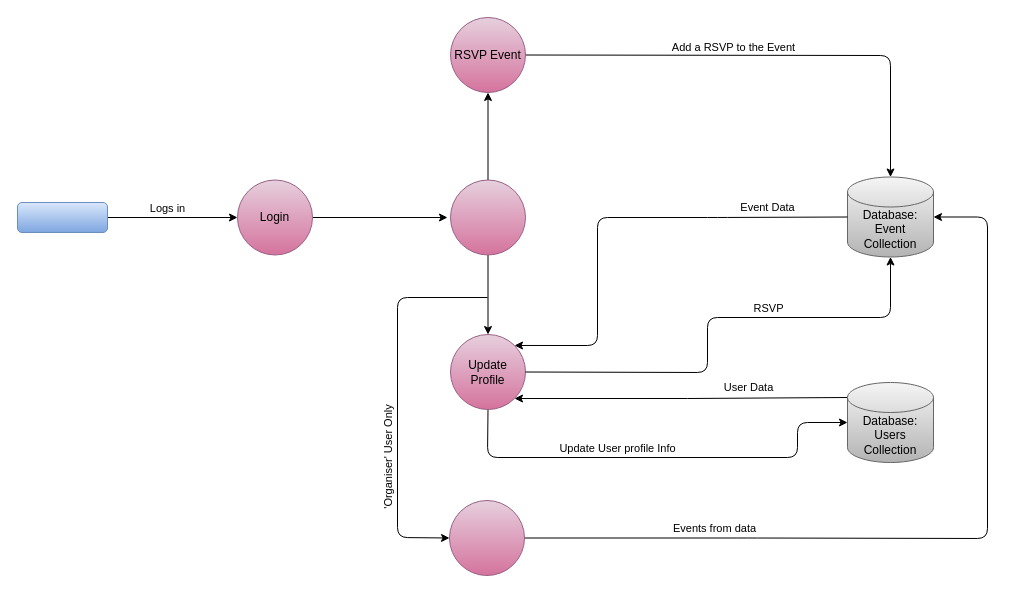
Image size: 1013x593. Some labels were removed from this diagram. Each missing label, with the box of its shape:
Create Event: (448, 500, 524, 576)
Home: (450, 179, 526, 255)
User: (16, 202, 108, 232)
